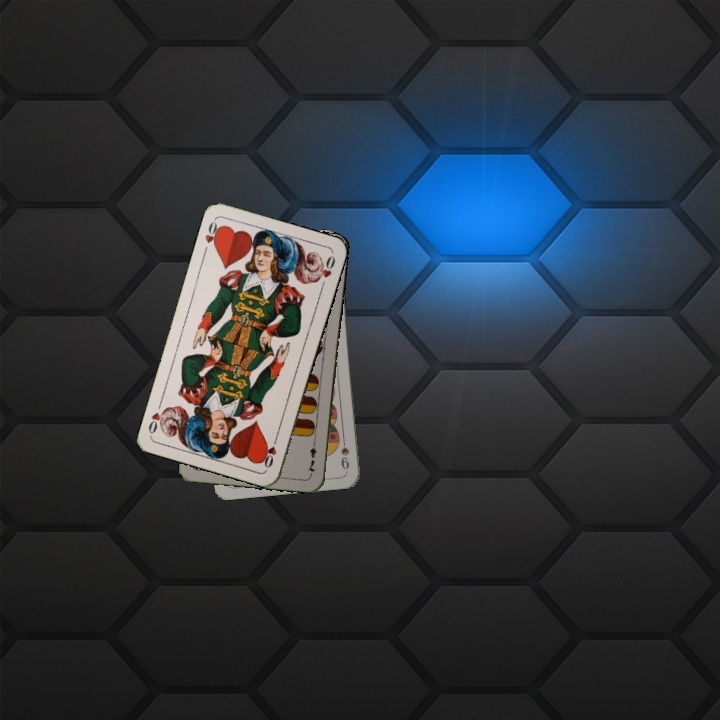E7: (303, 436, 319, 476)
HO: (200, 216, 224, 256), (259, 432, 280, 471)
S9: (337, 432, 352, 472)
